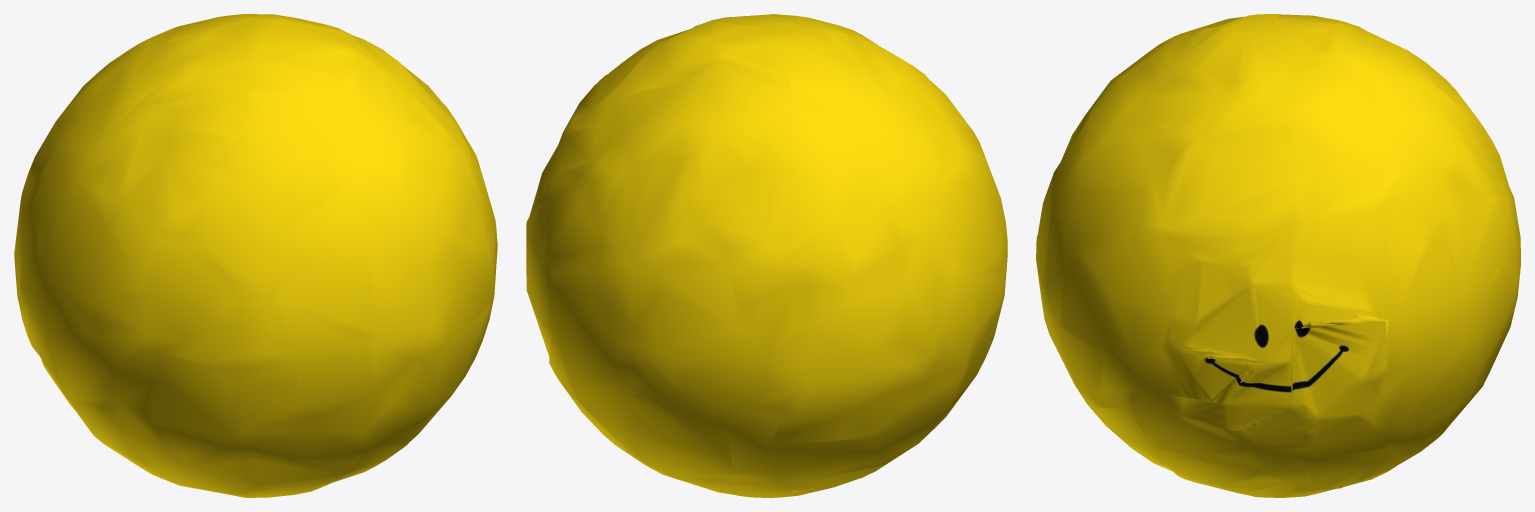
Rendered from verity.glb.
3 views of the same model, side by side, from view 1: azimuth 30°, elevation 25°; view 2: azimuth 150°, elevation 25°; view 3: azimuth 270°, elevation 25° (orthographic).
Parts seen in each view (by area): view 1: Sphere; view 2: Sphere; view 3: Sphere.
Part boxes in pixels (x1,y1,x2,y2): Sphere: [14, 14, 497, 497]; Sphere: [526, 14, 1007, 497]; Sphere: [1036, 14, 1520, 497].
Size of the model in its own units: 0.6564 by 0.6548 by 0.6562.
2 materials, 2 textured.
